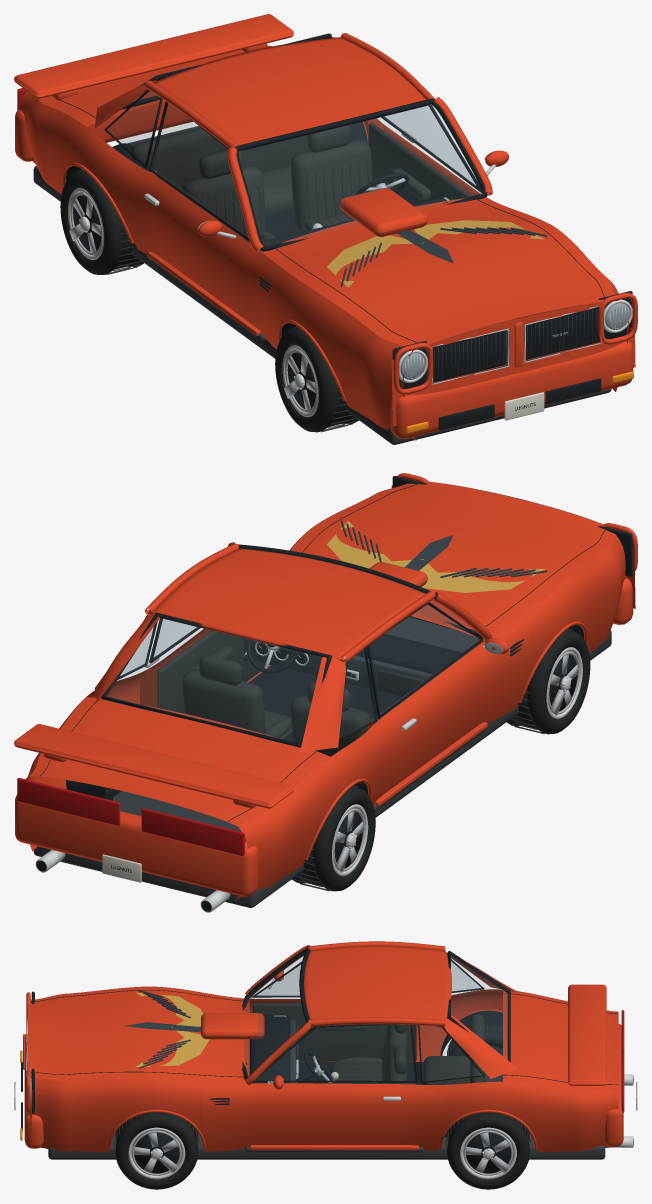
File: lou.glb
The picture shows the model from 3 angles, top to bottom: view 1: azimuth 30°, elevation 25°; view 2: azimuth 150°, elevation 25°; view 3: azimuth 270°, elevation 25°; orthographic projection. The views are drawn at different scales.
Visible parts, largest first — view 1: Body, DoorMesh_R, DoorMesh_L, WheelMesh_RR, WheelMesh_FR; view 2: Body, DoorMesh_R, DoorMesh_L, WheelMesh_FR, WheelMesh_RR; view 3: Body, DoorMesh_L, WheelMesh_FL, WheelMesh_RL, DoorMesh_R, WheelMesh_RR, SteeringWheelMesh.
Boxes of the visible parts, x1,y1,x2,y2 form: Body: [14, 14, 637, 444]; DoorMesh_R: [139, 101, 261, 336]; DoorMesh_L: [368, 105, 508, 204]; WheelMesh_RR: [60, 169, 143, 274]; WheelMesh_FR: [275, 326, 358, 432]; Body: [14, 473, 637, 912]; DoorMesh_R: [367, 602, 508, 806]; DoorMesh_L: [139, 618, 265, 713]; WheelMesh_FR: [506, 628, 590, 734]; WheelMesh_RR: [292, 785, 375, 891]; Body: [14, 941, 637, 1159]; DoorMesh_L: [249, 1024, 419, 1150]; WheelMesh_FL: [114, 1112, 198, 1189]; WheelMesh_RL: [446, 1112, 530, 1189]; DoorMesh_R: [249, 961, 419, 1061]; WheelMesh_RR: [447, 1023, 502, 1056]; SteeringWheelMesh: [304, 1051, 333, 1082].
Bounding box in the file's own units: 2.29 × 1.49 × 5.17.
